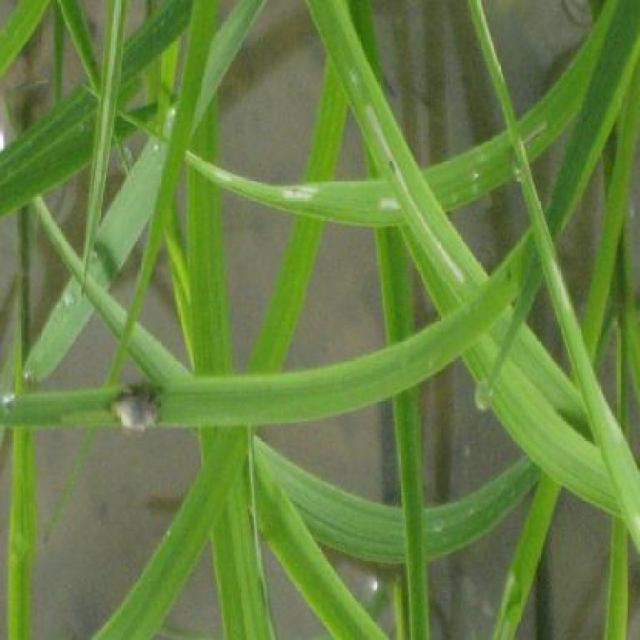rice-bug: (109, 383, 162, 432)
